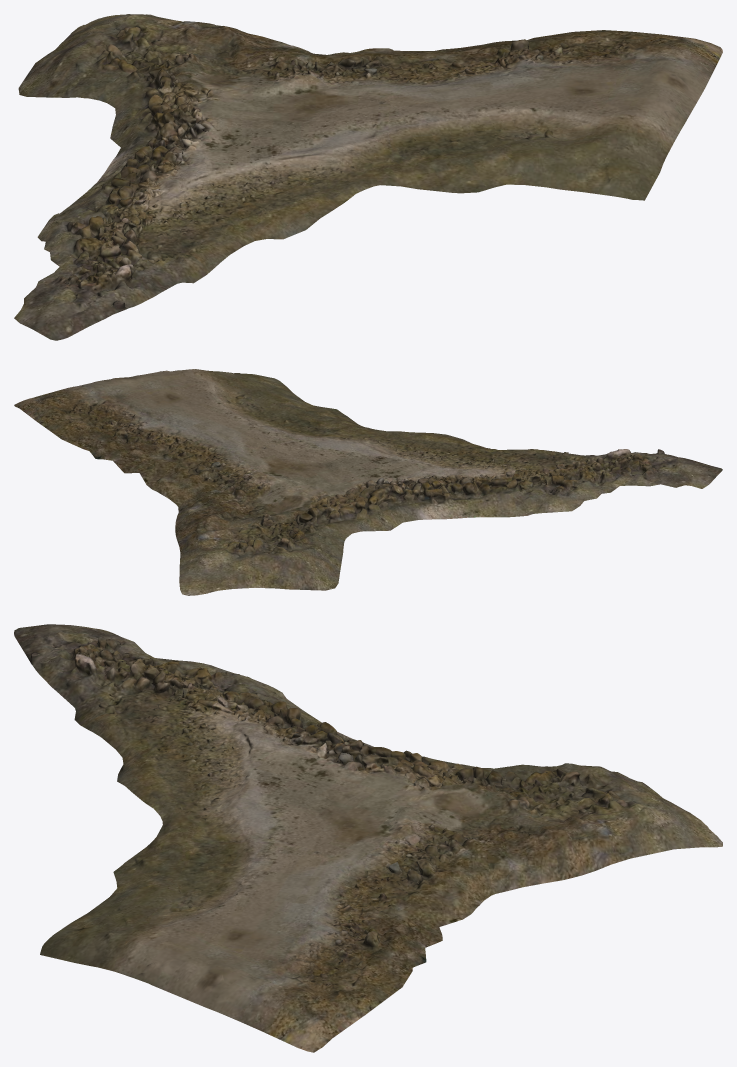
The model's file is coast_rocks_01.glb.
3 views of the same model, one above another, from view 1: azimuth 30°, elevation 25°; view 2: azimuth 150°, elevation 25°; view 3: azimuth 270°, elevation 25° (orthographic). The views are drawn at different scales.
Parts seen in each view (by area): view 1: coast_rocks_01; view 2: coast_rocks_01; view 3: coast_rocks_01.
Boxes of the visible parts, x1=… form: coast_rocks_01: x1=14, y1=14, x2=722, y2=340; coast_rocks_01: x1=14, y1=369, x2=722, y2=595; coast_rocks_01: x1=14, y1=624, x2=722, y2=1052.
Size of the model in its own units: 59.49 by 3.29 by 42.51.
1 material, 1 textured.
